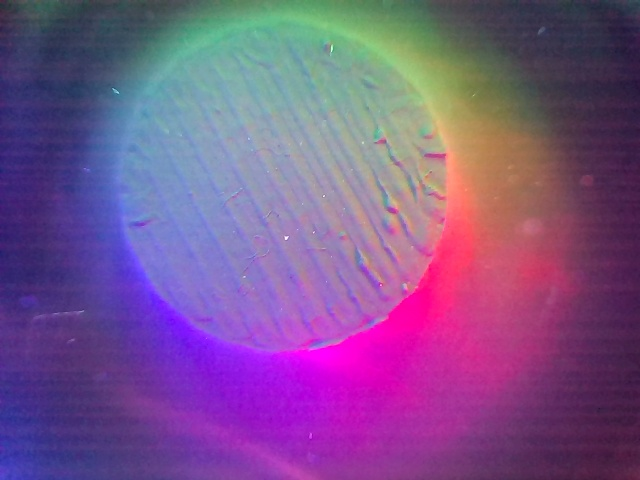contact: (121, 17, 445, 348)
